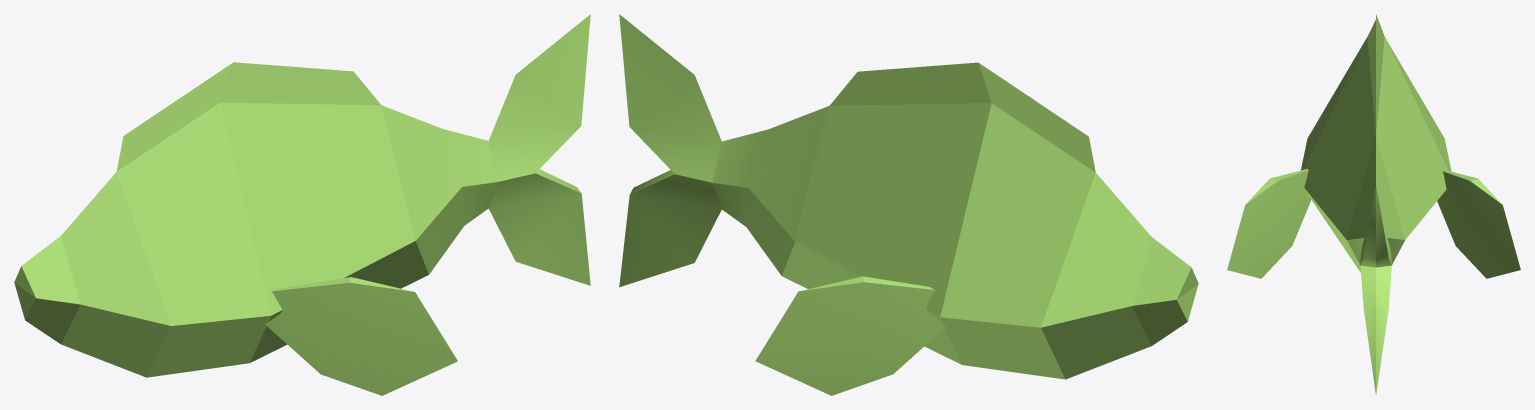
File: Asset_FishPink.fbx
The picture shows the model from 3 angles, left to right: view 1: azimuth 30°, elevation 25°; view 2: azimuth 150°, elevation 25°; view 3: azimuth 270°, elevation 25°; orthographic projection. The views are drawn at different scales.
Visible parts, largest first — view 1: poisson_01; view 2: poisson_01; view 3: poisson_01.
Boxes of the visible parts, x1,y1,x2,y2 form: poisson_01: (14, 14, 590, 395); poisson_01: (619, 14, 1198, 395); poisson_01: (1227, 14, 1520, 394).
Size of the model in its own units: 19.15 by 9.99 by 11.03.
